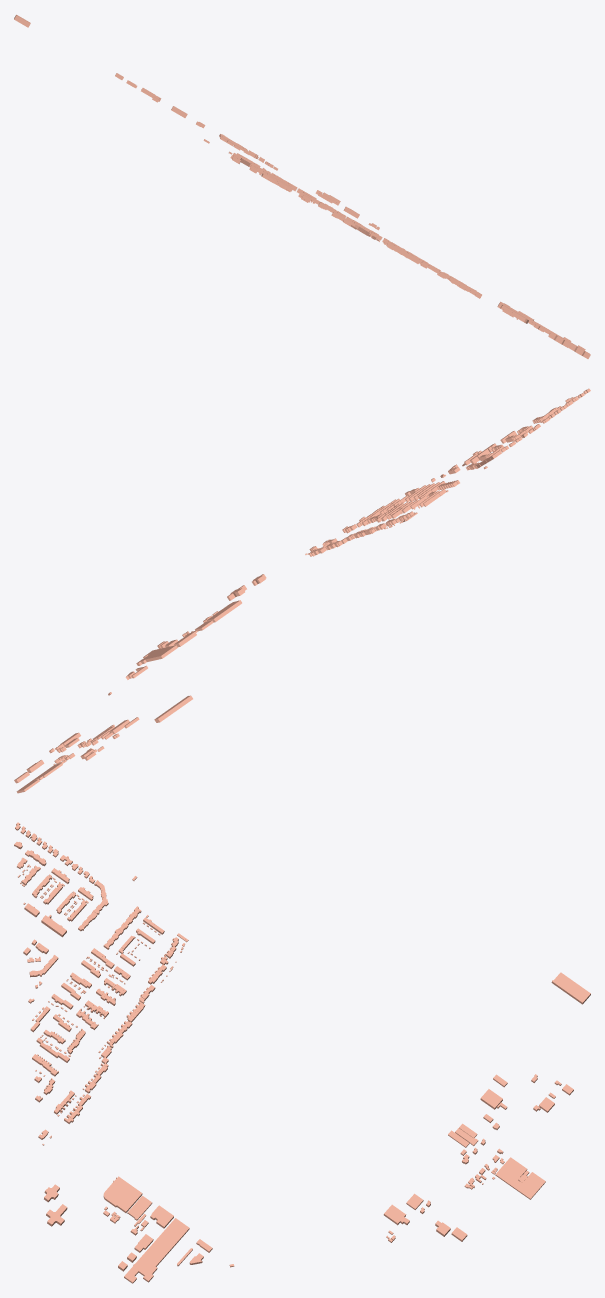
The picture shows the model from 3 angles, top to bottom: view 1: azimuth 30°, elevation 25°; view 2: azimuth 150°, elevation 25°; view 3: azimuth 270°, elevation 25°; orthographic projection. The views are drawn at different scales.
Bounding box in the file's own units: 911 × 720 × 1293.
